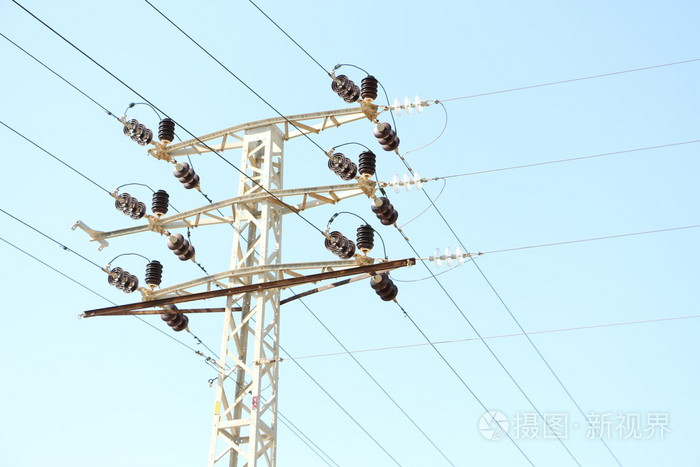insulator: (429, 243, 466, 271), (123, 114, 155, 145), (366, 273, 400, 301), (386, 171, 425, 195), (165, 233, 196, 263), (326, 228, 356, 259), (372, 120, 400, 153), (392, 93, 426, 119), (330, 73, 360, 102), (160, 303, 188, 334), (106, 265, 138, 292), (328, 153, 357, 181), (116, 191, 144, 219), (373, 198, 399, 226), (174, 160, 198, 189)
